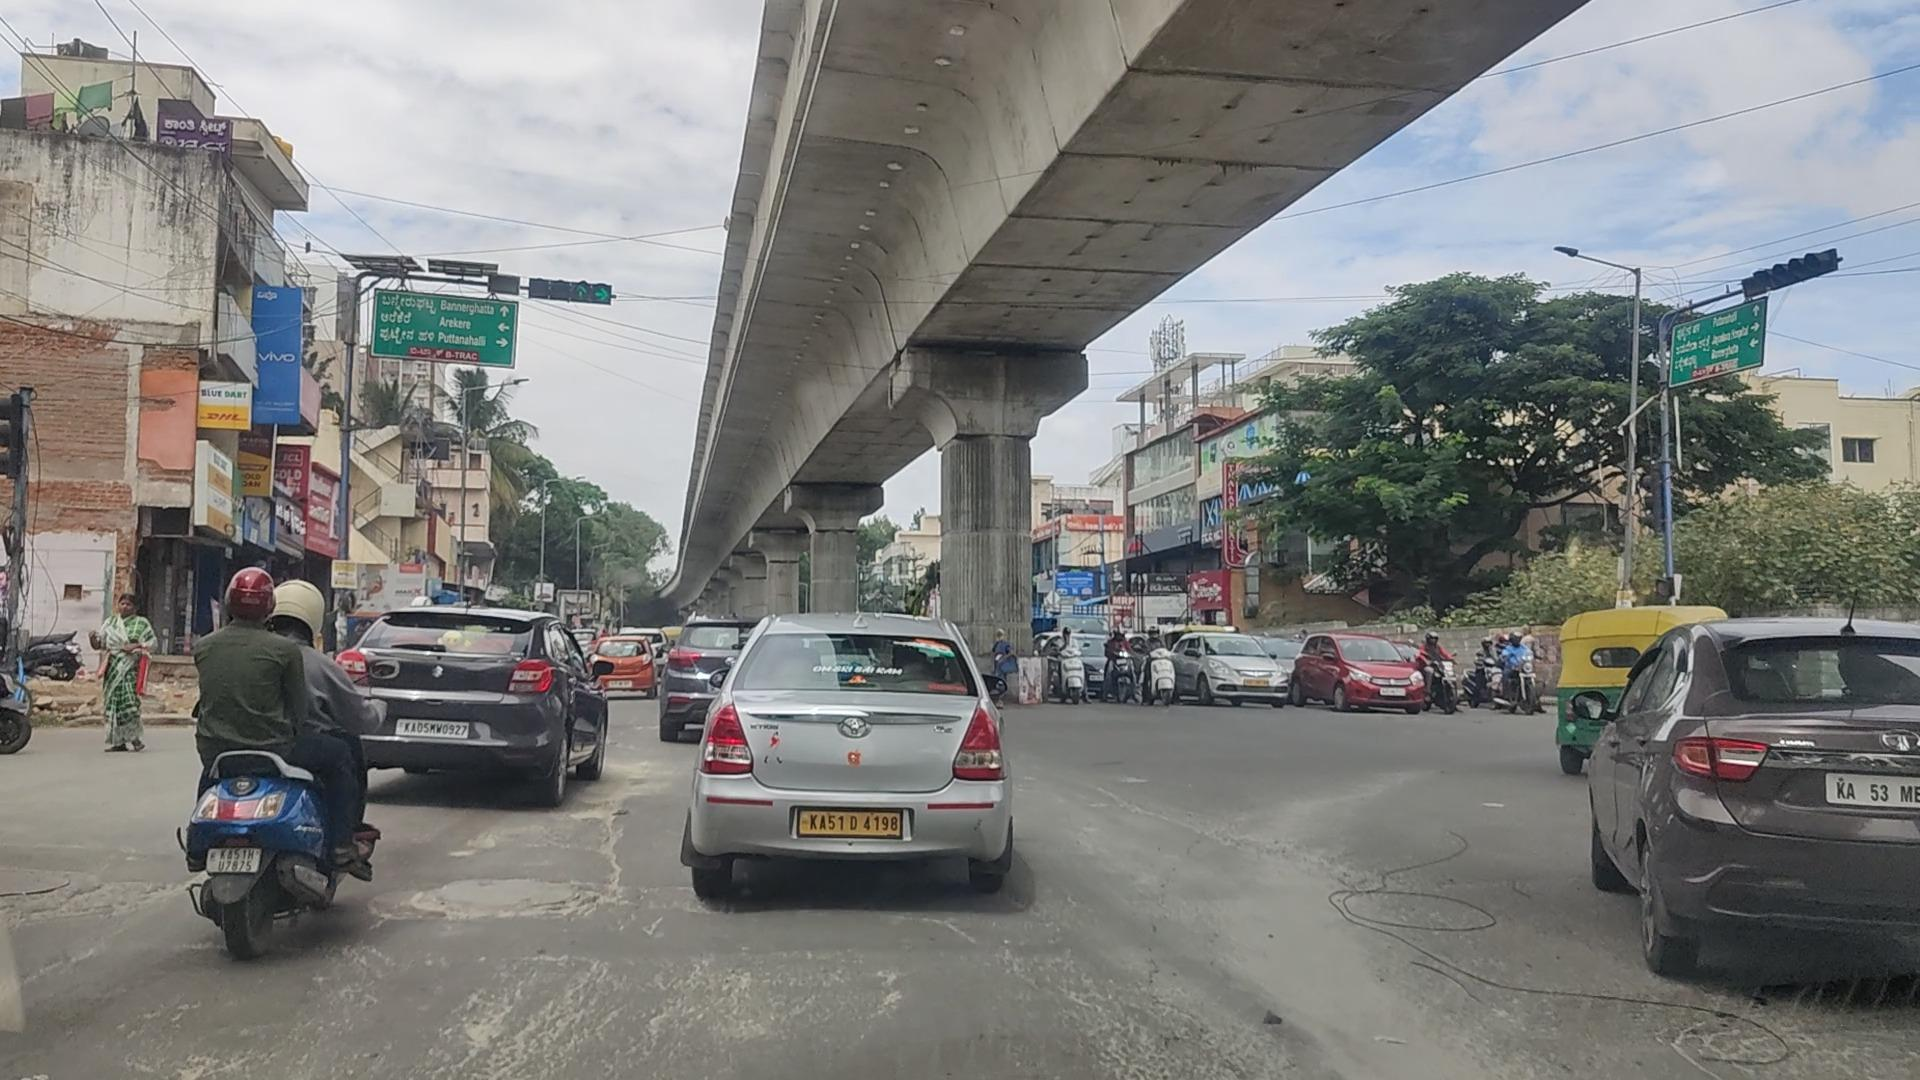LMV: (1575, 611, 1920, 978), (711, 601, 1021, 910), (173, 564, 356, 948), (357, 592, 608, 802), (95, 592, 153, 756)
RoadDamages: (433, 922, 803, 1080), (422, 870, 613, 926), (1087, 770, 1212, 835), (589, 783, 634, 876)
